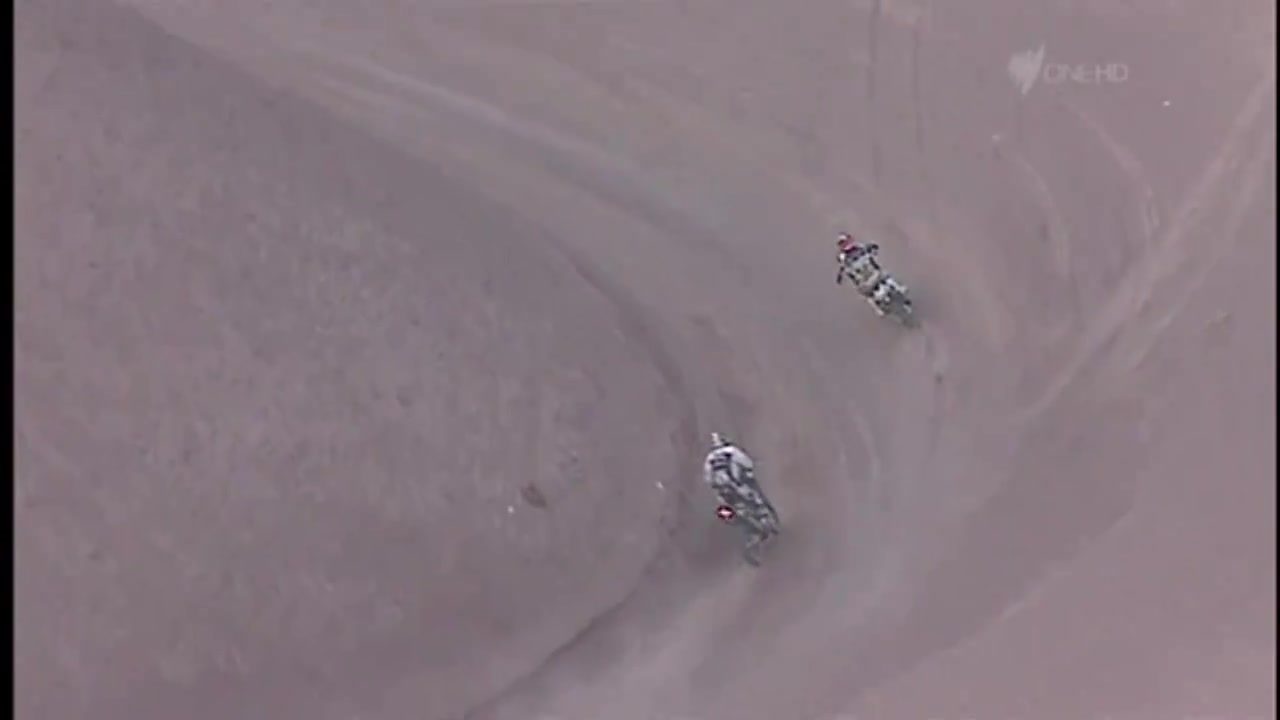motorbike: (717, 456, 782, 566)
